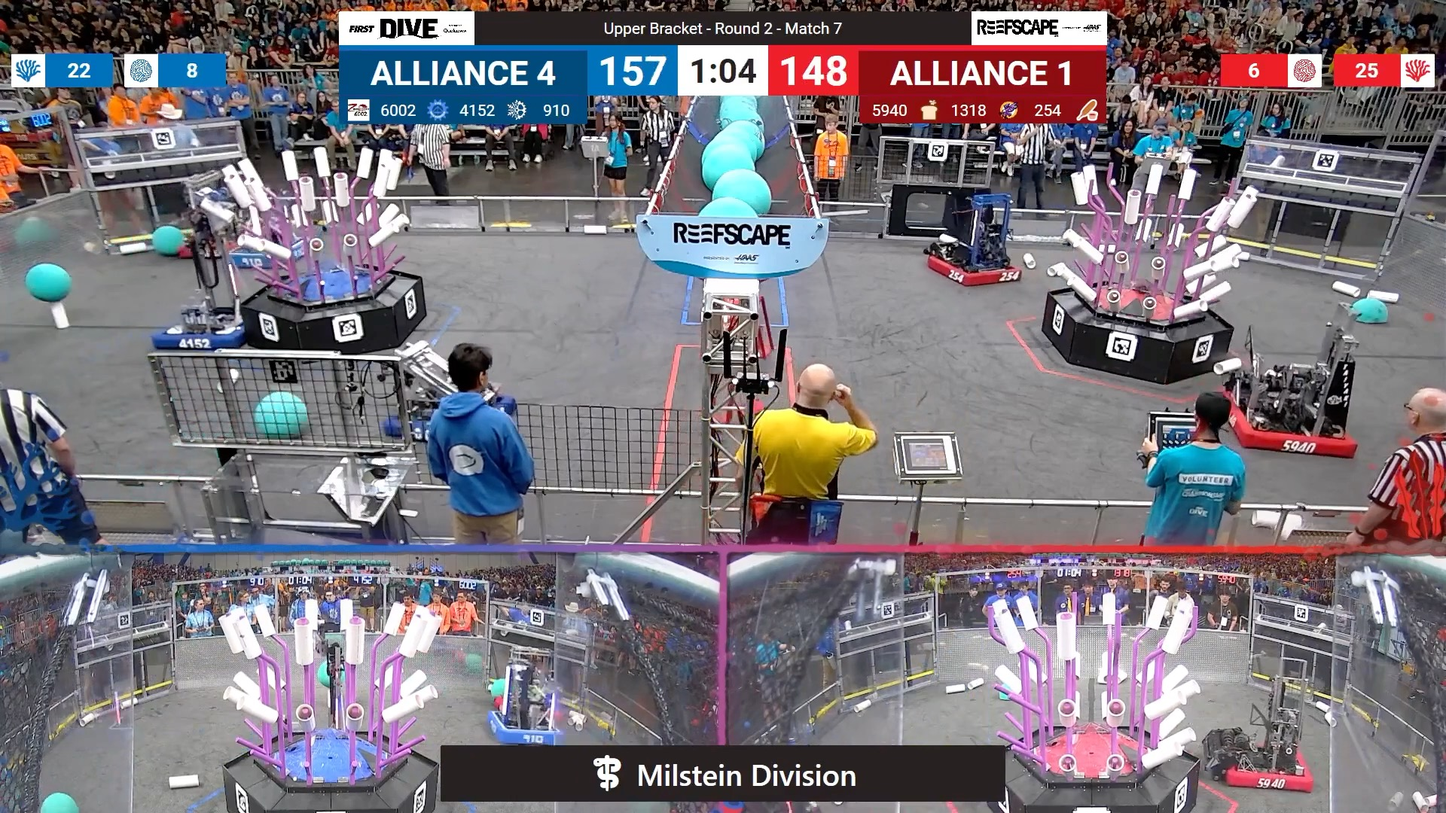bumpers: (1202, 387, 1363, 469), (1210, 738, 1320, 799), (152, 298, 251, 353), (920, 248, 1034, 293), (480, 709, 566, 747), (223, 238, 321, 266)
